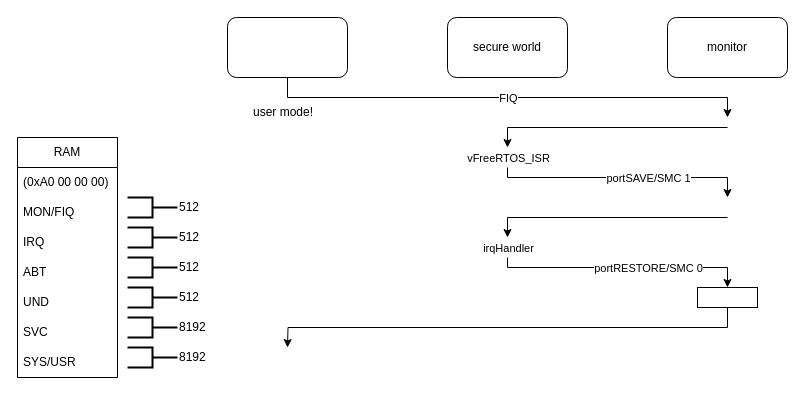
This 805x395 diagram has some shape labels left out. The shapes that lost their labels are listed below. From the top down, each one's centre as x and y in pixels, then its label:
the point at 287,47: task / normal world
the point at 727,297: Detection
